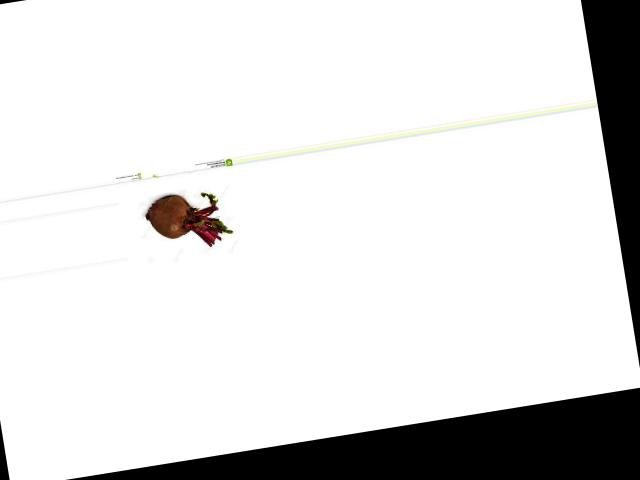beet: (142, 187, 233, 255)
